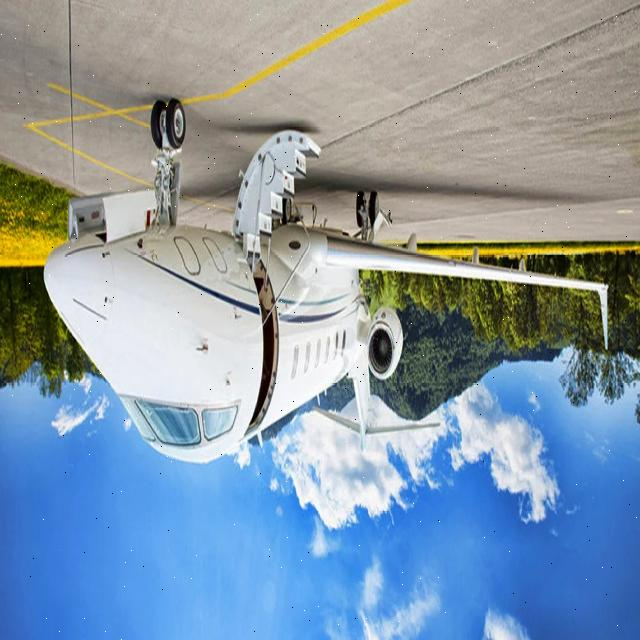jet: (0, 86, 618, 564)
